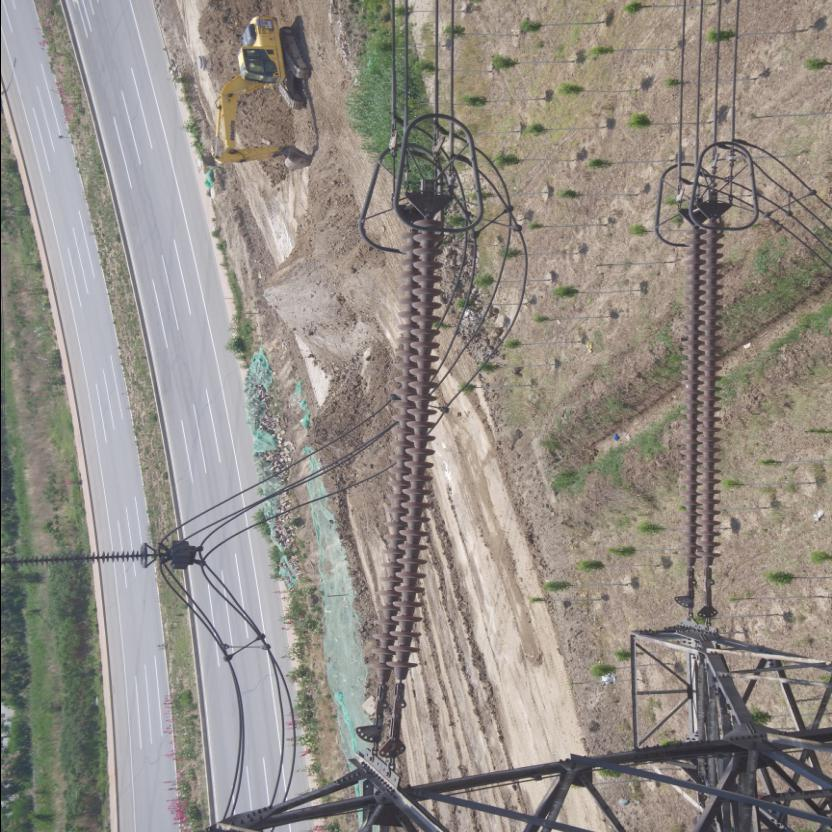insulator: (366, 208, 450, 704), (676, 211, 731, 586)
